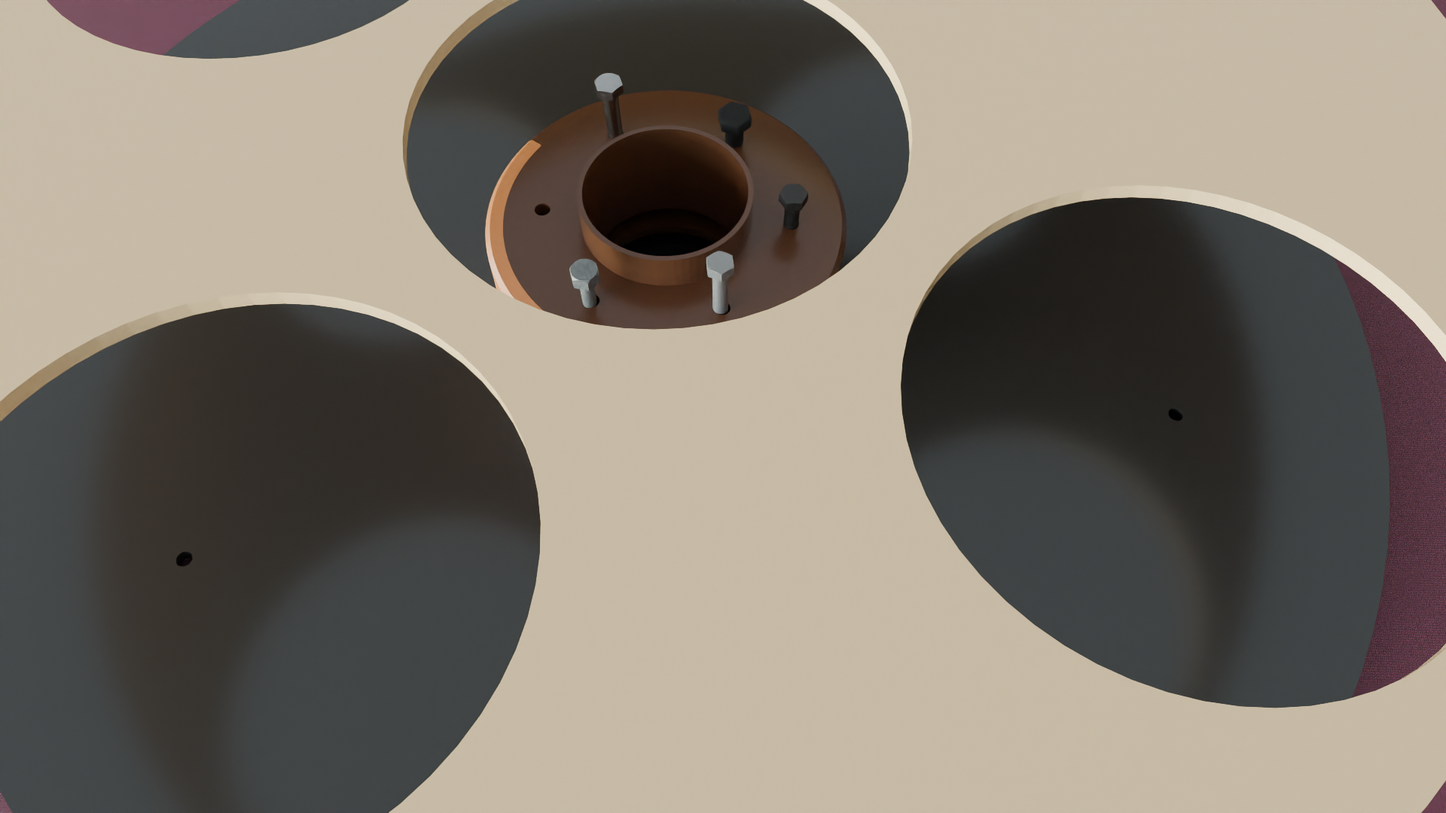bolt: (718, 102, 752, 127), (569, 259, 599, 284), (706, 251, 734, 275), (594, 73, 623, 93), (779, 184, 808, 204)
